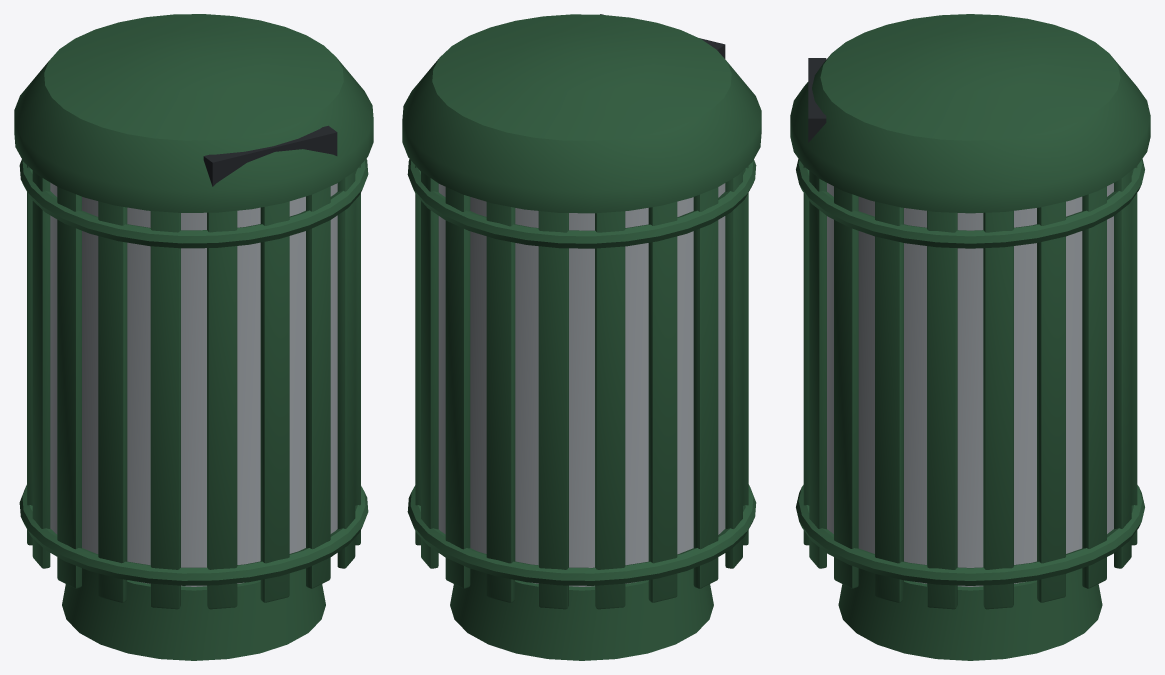
The model's file is litter-bin.glb.
3 renders of one model, left to right at view 1: azimuth 30°, elevation 25°; view 2: azimuth 150°, elevation 25°; view 3: azimuth 270°, elevation 25°, orthographic.
Parts seen in each view (by area): view 1: Litter_Bin; view 2: Litter_Bin; view 3: Litter_Bin.
Part boxes in pixels (<box>): Litter_Bin: <box>14,14,373,660</box>; Litter_Bin: <box>402,14,761,660</box>; Litter_Bin: <box>790,14,1150,660</box>.
Bounding box in the file's own units: 0.6 × 1.01 × 0.6.
